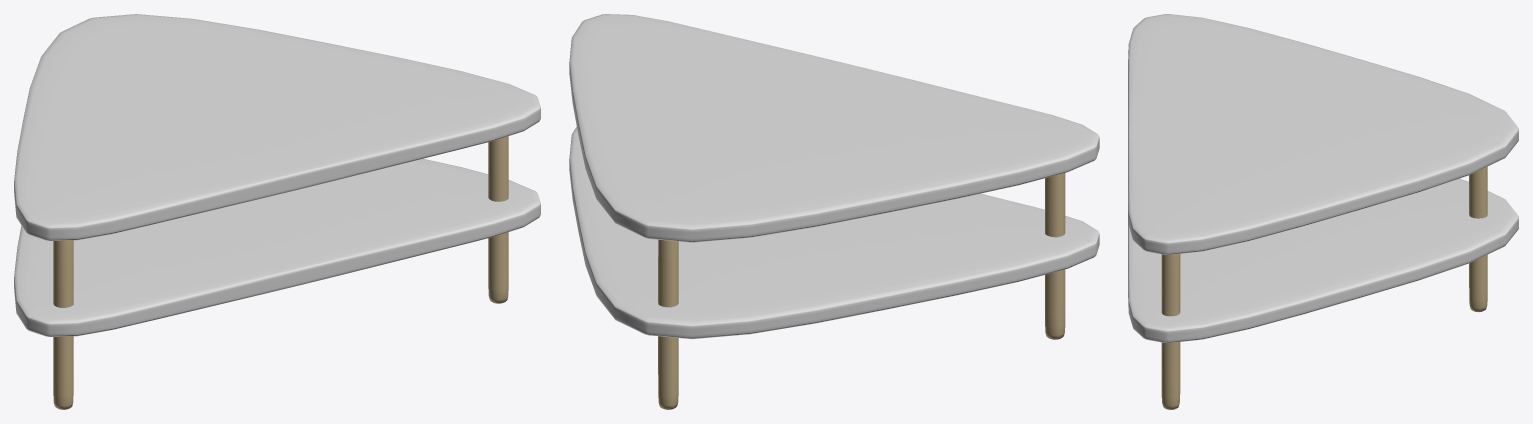
File: MesaTriangular.fbx
3 views of the same model, side by side, from view 1: azimuth 30°, elevation 25°; view 2: azimuth 150°, elevation 25°; view 3: azimuth 270°, elevation 25° (orthographic). The views are drawn at different scales.
Visible parts, largest first — view 1: mesaTriangular; view 2: mesaTriangular; view 3: mesaTriangular.
Part boxes in pixels (x1=…): mesaTriangular: x1=14, y1=14, x2=540, y2=409; mesaTriangular: x1=569, y1=14, x2=1099, y2=409; mesaTriangular: x1=1128, y1=14, x2=1518, y2=409.
Size of the model in its own units: 78.87 by 29.59 by 57.02.
